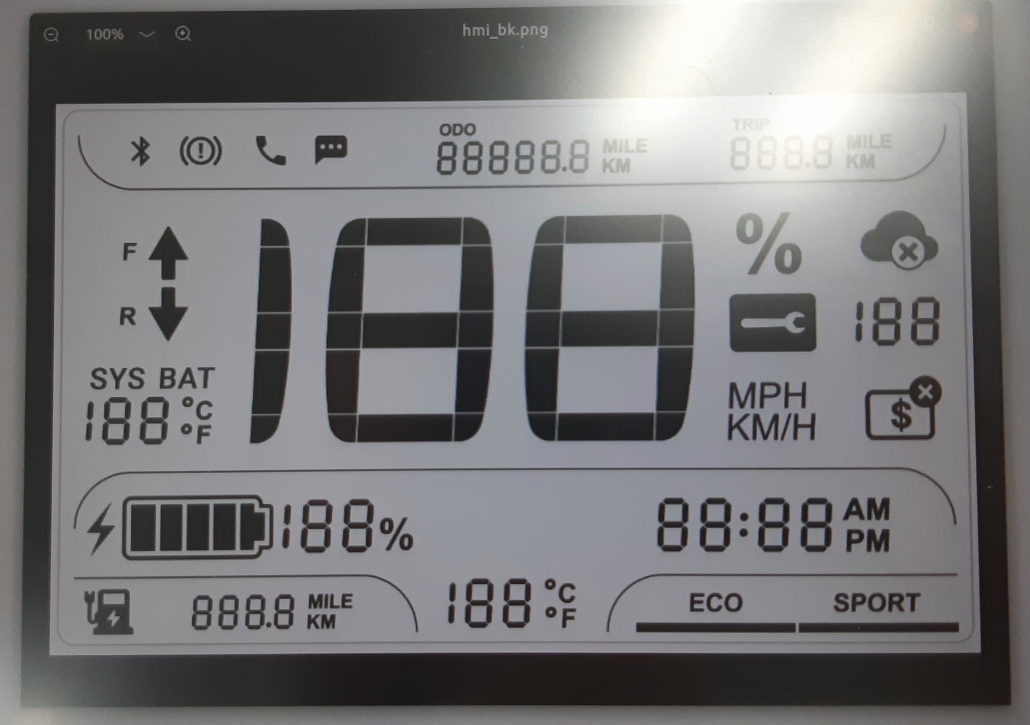bluetooth_on: (125, 133, 156, 168)
braking_on: (178, 130, 225, 168)
calling_on: (252, 129, 290, 168)
connection_lost: (856, 208, 942, 272)
error_code: (725, 287, 821, 358)
low_battery: (79, 583, 139, 639)
sms_on: (312, 132, 351, 169)
vin_id: (862, 374, 945, 445)
